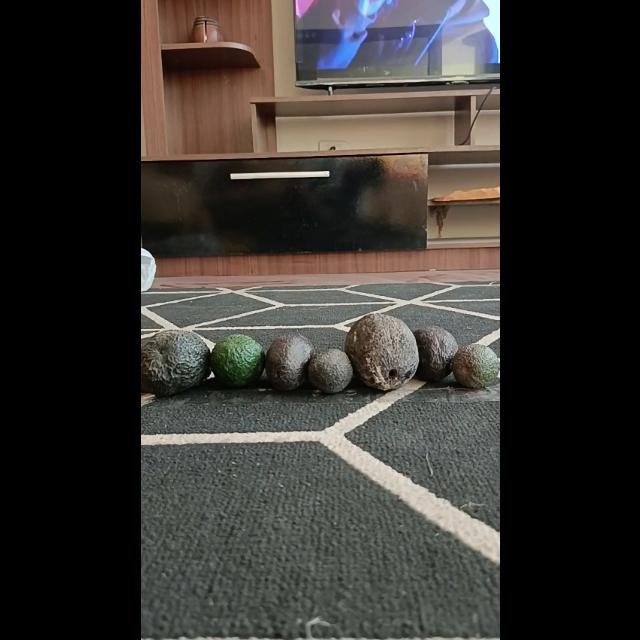Primera: (343, 312, 417, 390), (140, 329, 210, 396)
Segunda: (208, 334, 264, 386), (263, 332, 313, 390), (410, 326, 458, 382)
Tercera: (450, 343, 498, 389), (306, 348, 352, 394)
